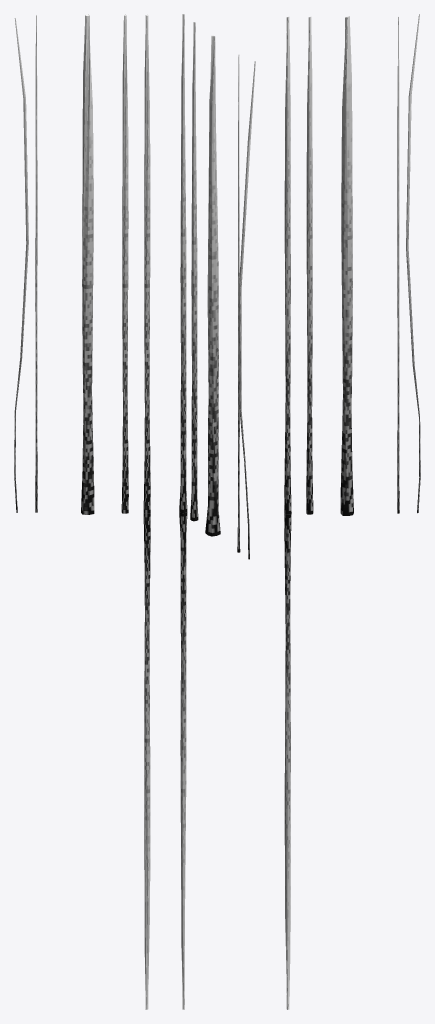
The model's file is meshes_morph_vr.FBX.
The picture shows the model from 3 angles, left to right: view 1: azimuth 90°, elevation 25°; view 2: azimuth 210°, elevation 25°; view 3: azimuth 270°, elevation 25°; orthographic projection.
Parts seen in each view (by area): view 1: vr_treebasedouble, vr_treebase1_2, vr_treebase1, vr_treebase1_3, vr_treebase1_1; view 2: vr_treebasedouble, vr_treebase1_2, vr_treebase1, vr_treebase1_1, vr_treebase1_3; view 3: vr_treebasedouble, vr_treebase1_2, vr_treebase1, vr_treebase1_1, vr_treebase1_3.
Boxes of the visible parts, x1,y1,x2,y2 form: vr_treebasedouble: (143,14,150,1009); vr_treebase1_2: (81,14,94,514); vr_treebase1: (121,14,128,513); vr_treebase1_3: (35,14,37,512); vr_treebase1_1: (14,18,28,512); vr_treebasedouble: (179,14,187,1009); vr_treebase1_2: (205,35,220,536); vr_treebase1: (190,22,198,521); vr_treebase1_1: (239,61,255,559); vr_treebase1_3: (237,55,240,552); vr_treebasedouble: (284,17,291,1009); vr_treebase1_2: (340,16,353,515); vr_treebase1: (306,17,313,514); vr_treebase1_1: (406,14,420,513); vr_treebase1_3: (397,17,399,513).
Size of the model in its own units: 551 by 39803 by 4951.
